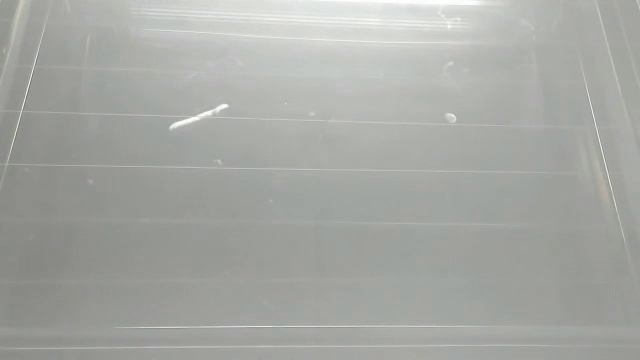alpha: (167, 102, 233, 132), (442, 109, 462, 128)
